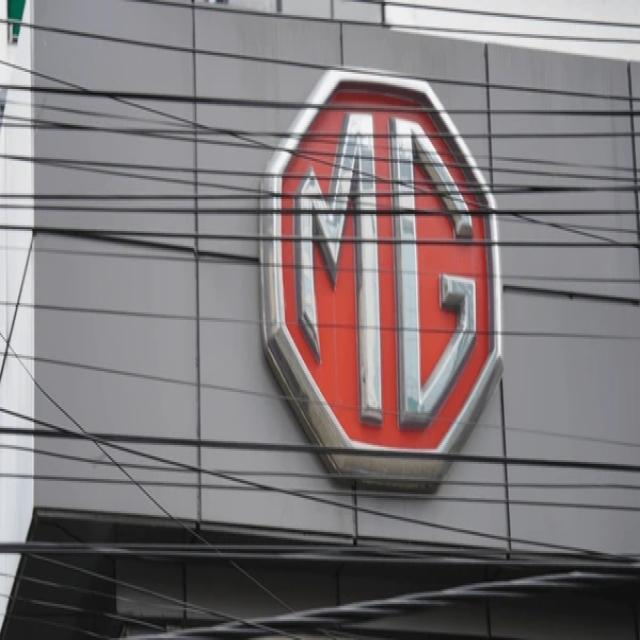mg: (262, 85, 500, 483)
